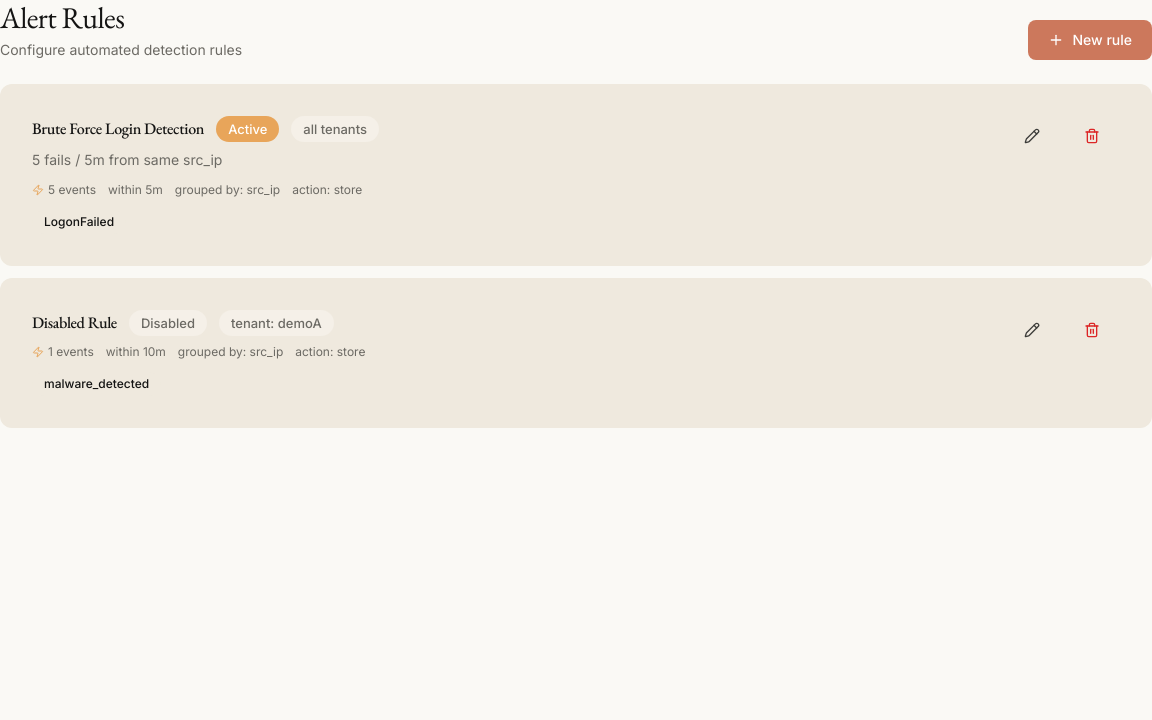
AlertRules Page — delete flow › surfaces an API error inside the modal without closing it
The width and height of the screenshot is (1152, 720).
Expected: the heading "Brute Force Login Detection" is shown, [32, 117, 204, 141]
Click the button named "Delete rule" in the row of "all tenants" at (1092, 136), box [1064, 116, 1120, 156]
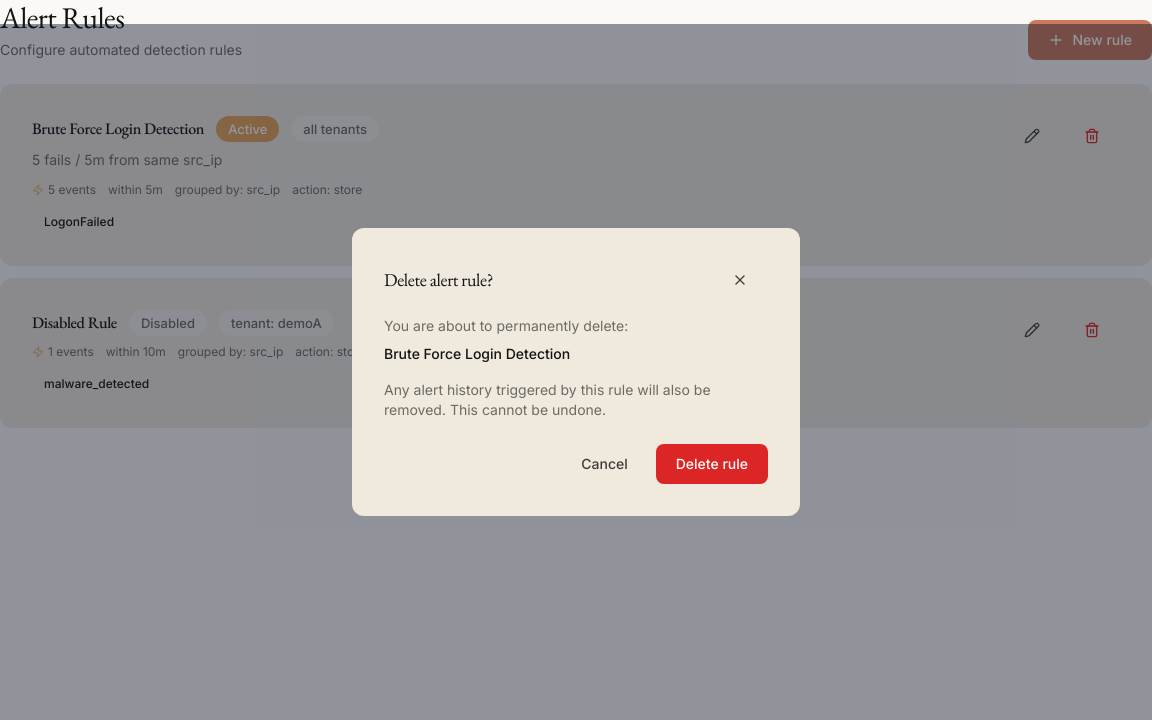
Click the button "Delete rule" at (712, 464), box [656, 444, 768, 484]
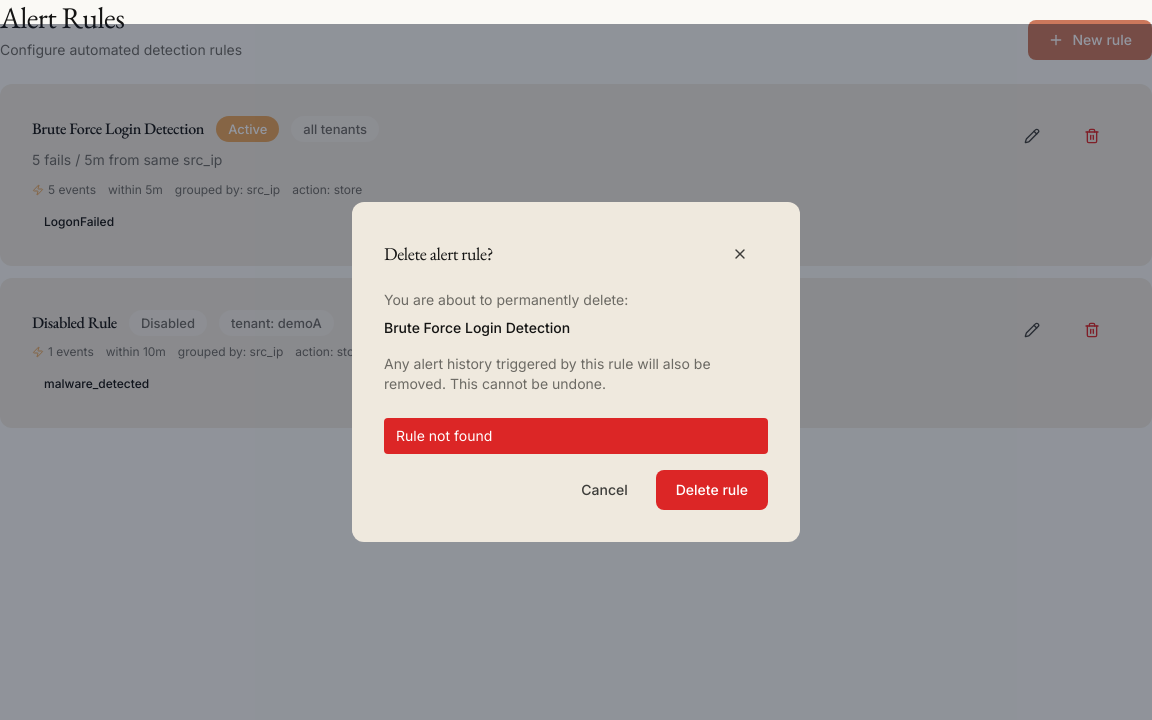
Now the dialog is shown, box [352, 202, 800, 542]
Now the dialog shows "Rule not found", box [396, 427, 492, 444]
